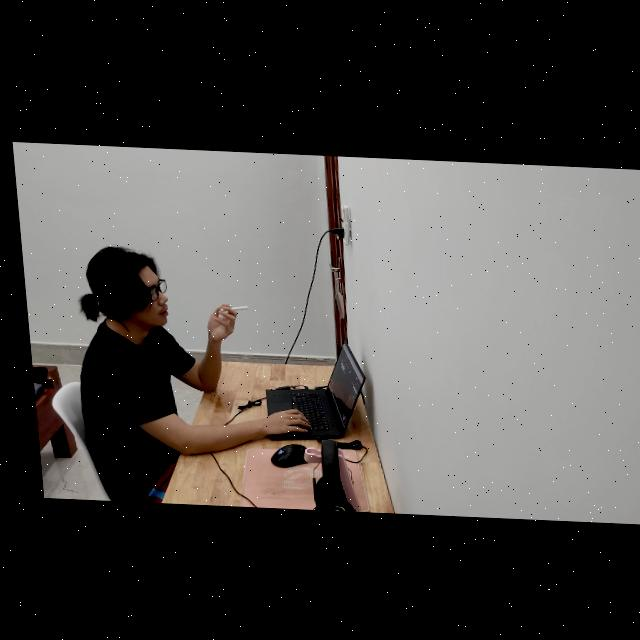cigarette: (213, 304, 243, 311)
